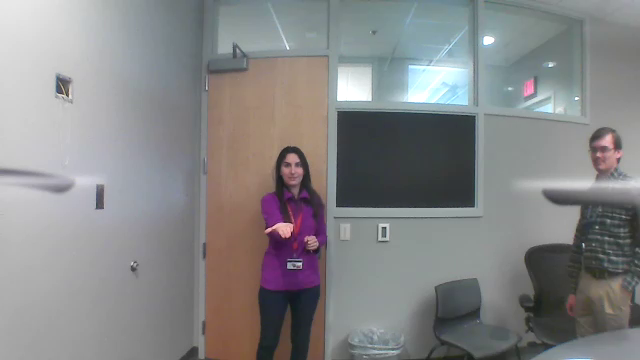land: (262, 218, 295, 243)
